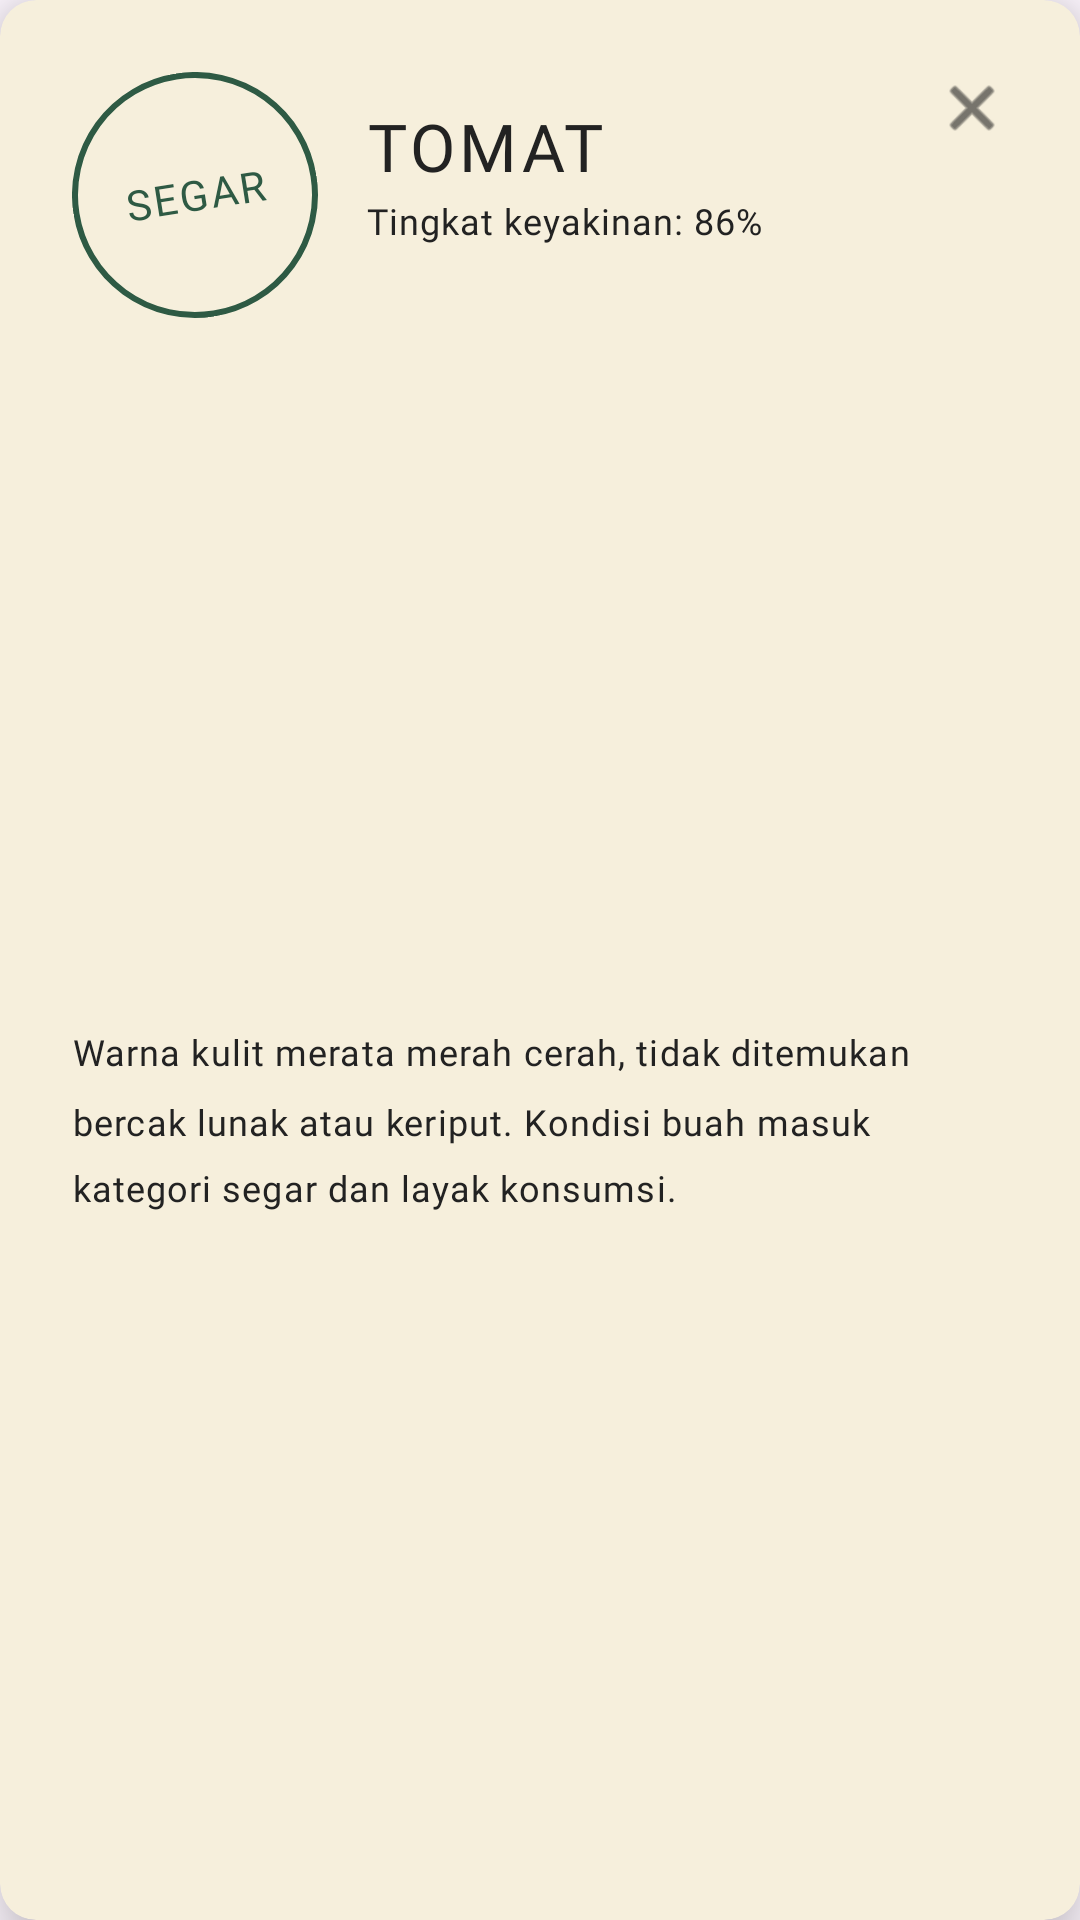

Locate icon controls on the screen. Image size 1080*1920, boxes as (x1,y1,x2,y2).
close clear cancel: (949,85,995,131)
